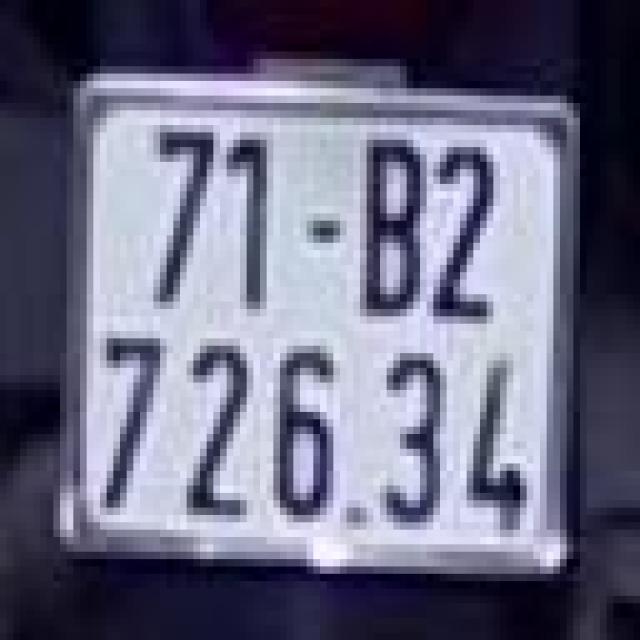1: (220, 140, 280, 323)
2: (430, 144, 510, 342), (180, 346, 253, 537)
3: (380, 342, 440, 541)
4: (460, 342, 540, 533)
6: (264, 328, 344, 534)
7: (134, 110, 214, 316), (90, 338, 163, 515)
B: (354, 118, 434, 338)
